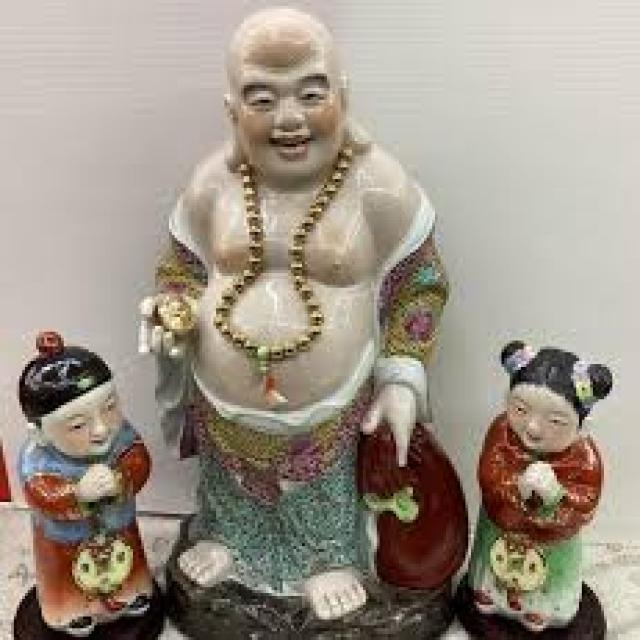Smiling Buddha: (167, 4, 399, 452)
